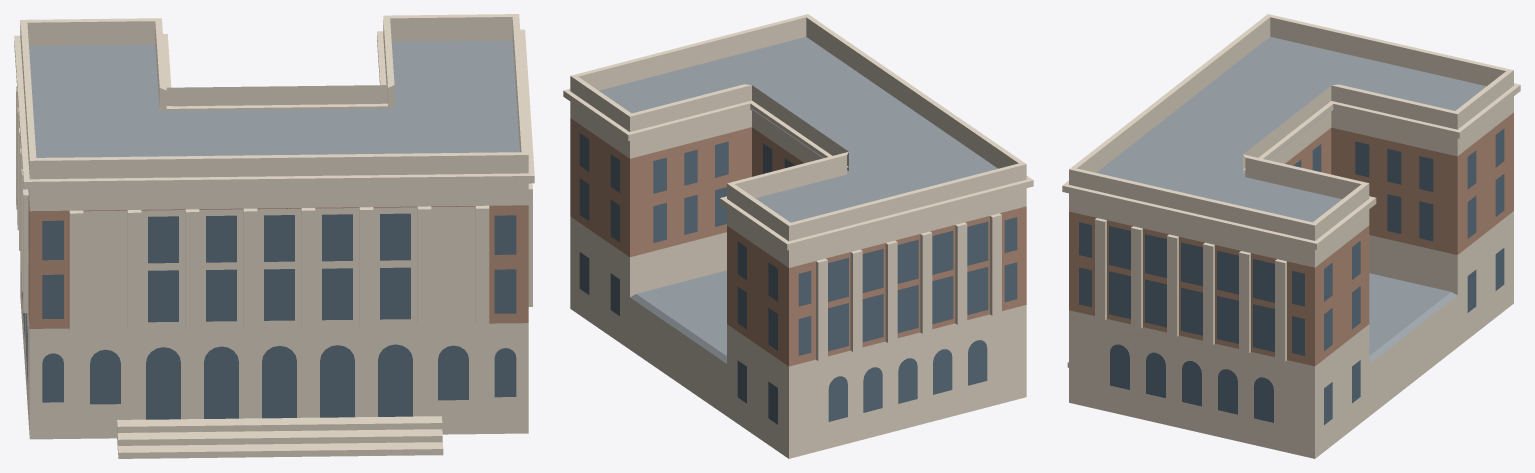
File: detail.glb
3 views of the same model, side by side, from view 1: azimuth 30°, elevation 25°; view 2: azimuth 150°, elevation 25°; view 3: azimuth 270°, elevation 25° (orthographic). The views are drawn at different scales.
Parts seen in each view (by area): view 1: the-mob-museum; view 2: the-mob-museum; view 3: the-mob-museum.
Part boxes in pixels (x1,y1,x2,y2): the-mob-museum: (14, 14, 534, 458); the-mob-museum: (563, 14, 1033, 458); the-mob-museum: (1062, 14, 1520, 458).
Size of the model in its own units: 45.36 by 22.7 by 40.43.
